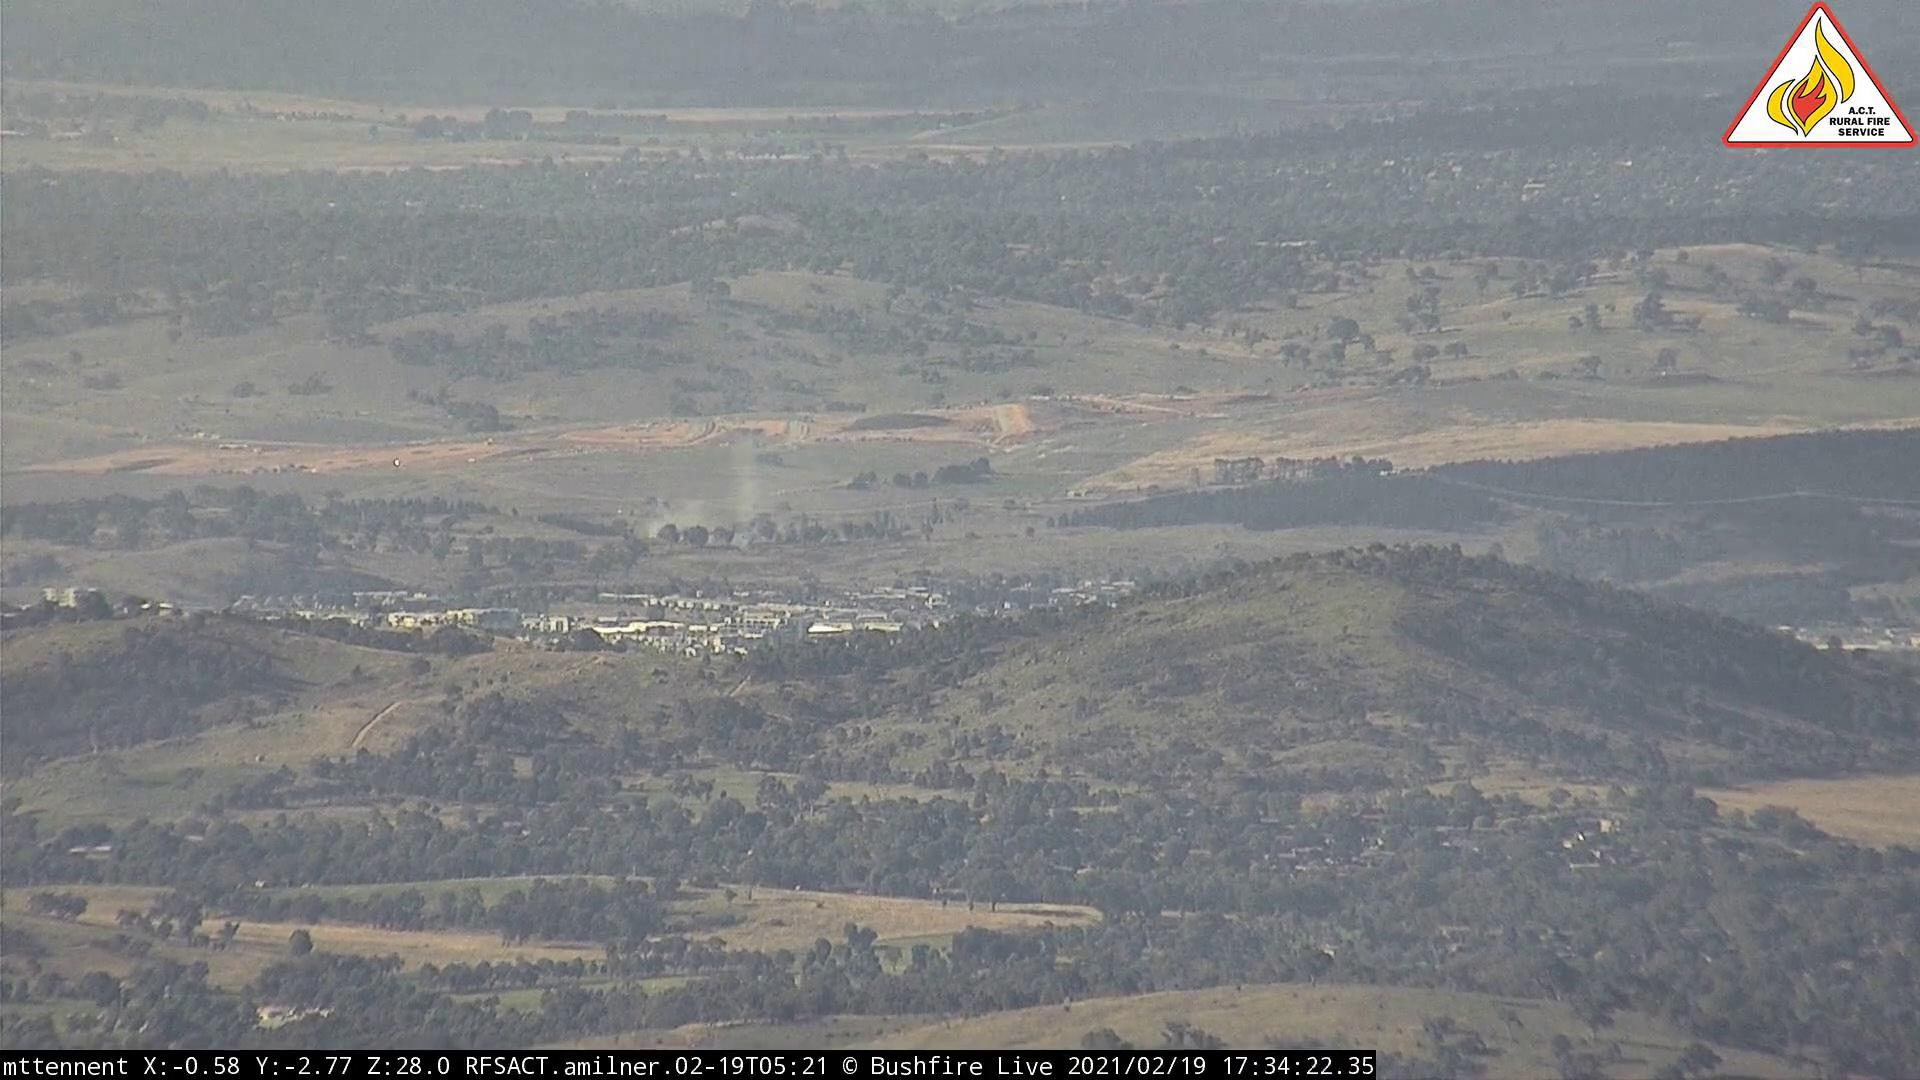Smoke: (650, 479, 735, 541)
